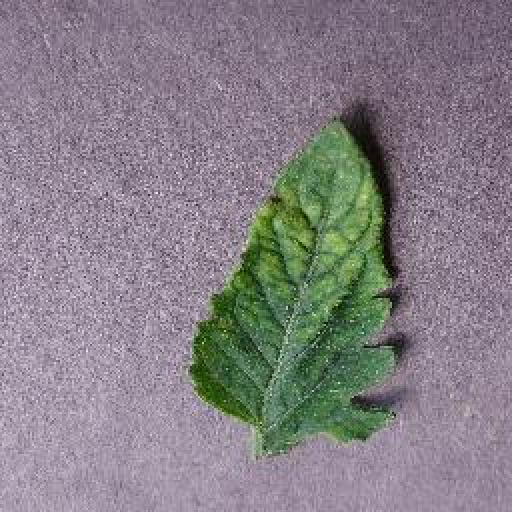Mosaic Virus: (186, 110, 400, 450)
